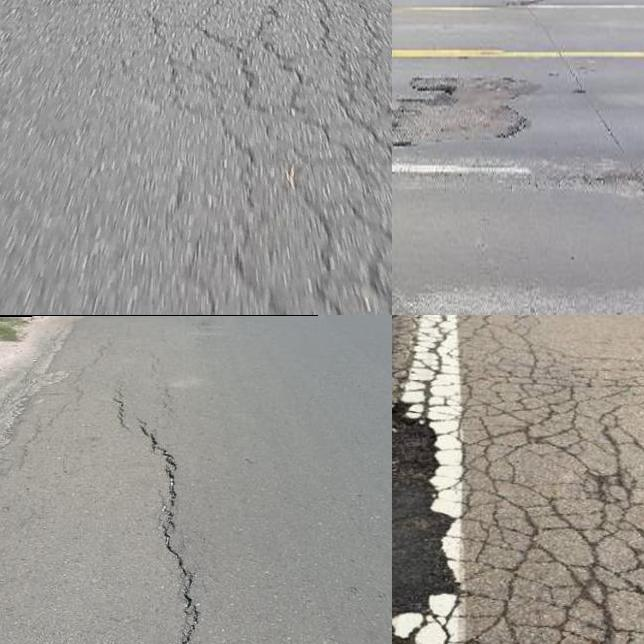Lubang: (392, 91, 535, 150)
Memanjang: (111, 391, 207, 644)
Pinggir: (392, 407, 461, 644)
Retak Buaya: (392, 315, 644, 644), (202, 0, 392, 315)
